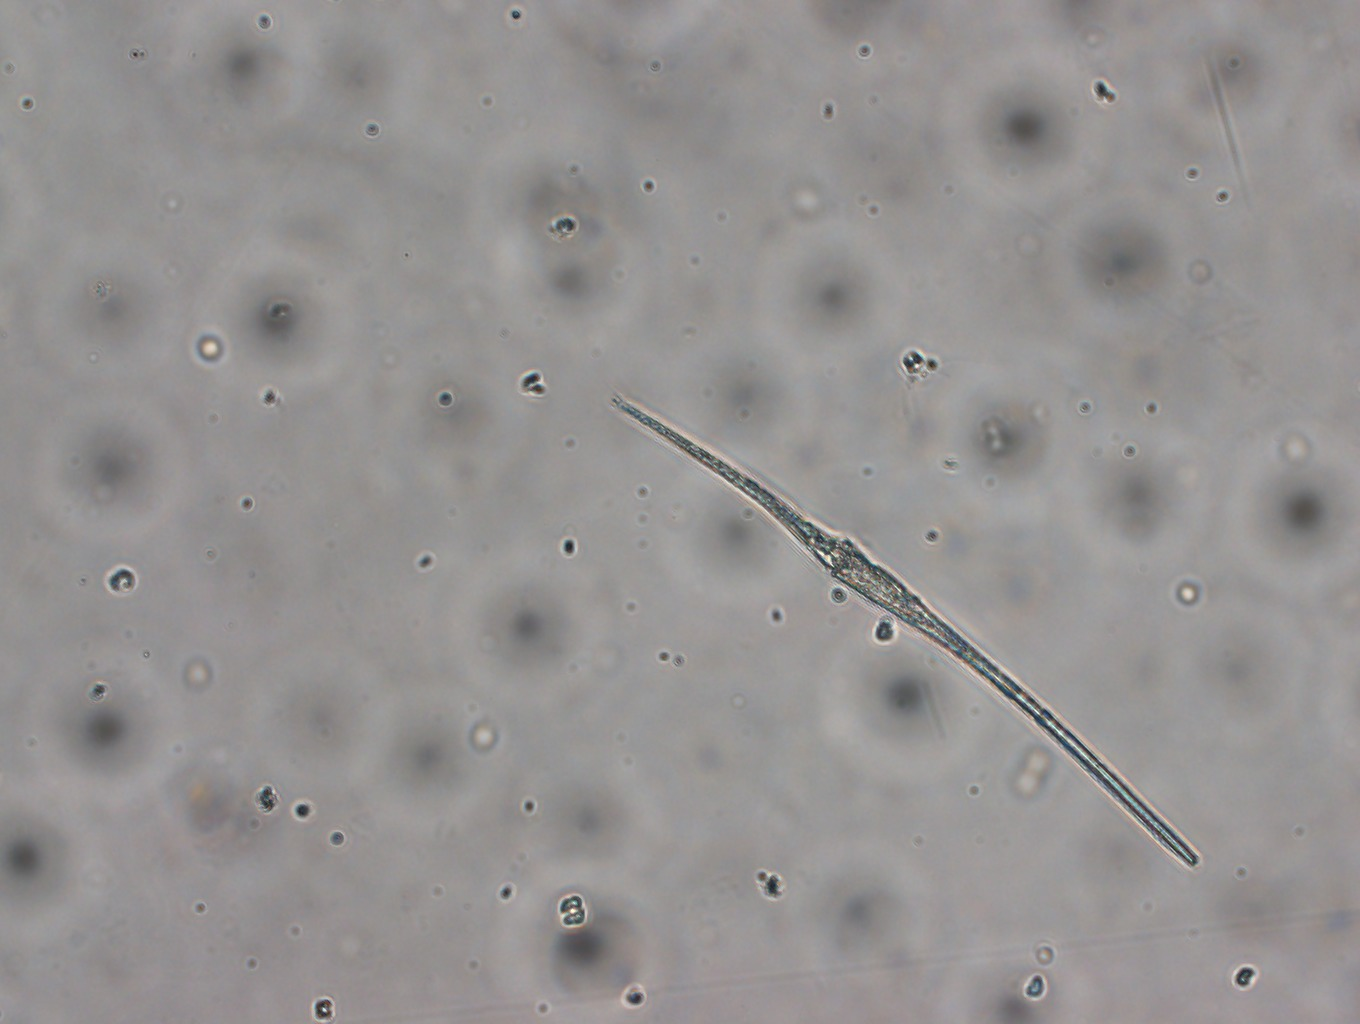ceratium fusus: (605, 392, 1202, 867)
